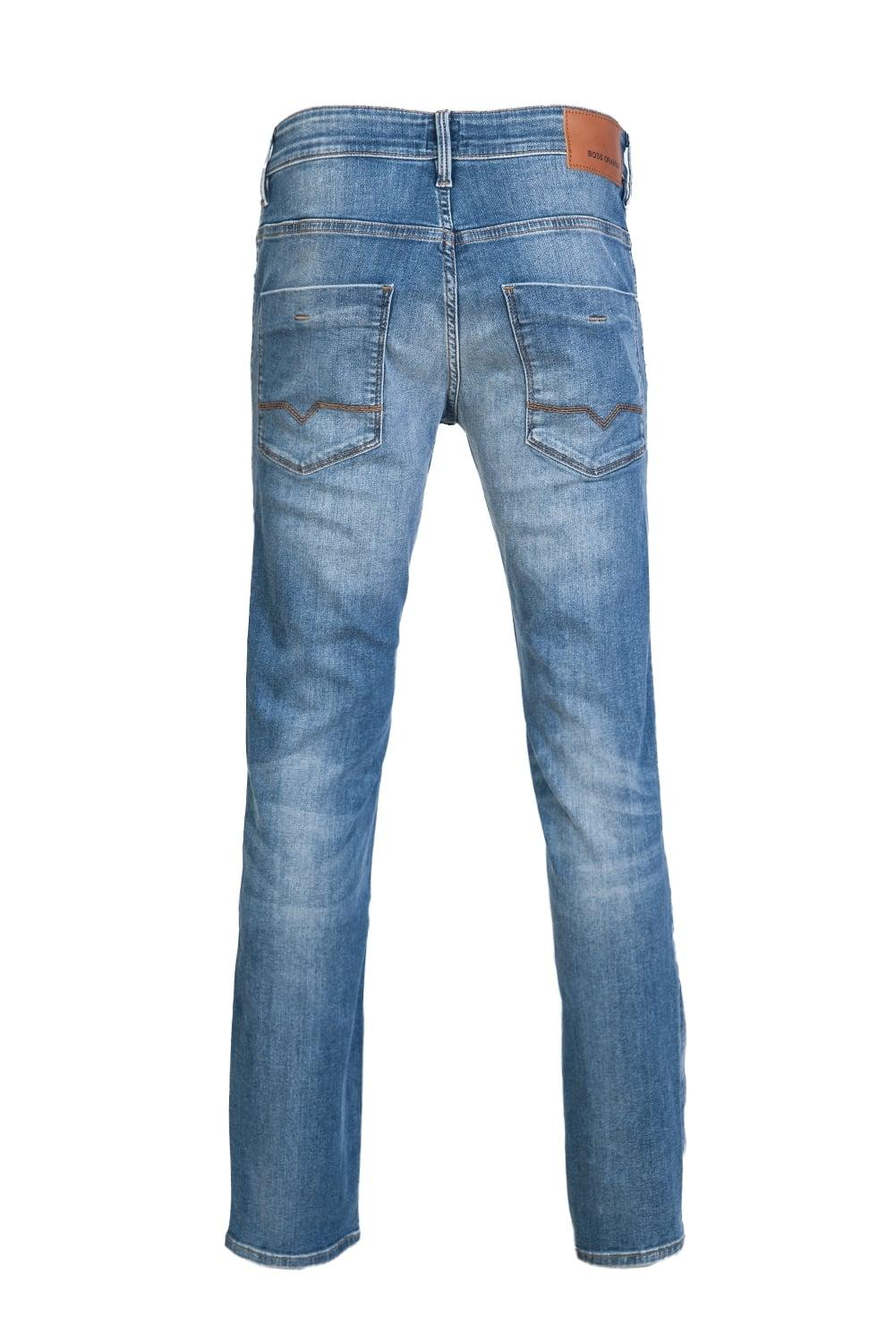Jeans: (213, 92, 698, 1286)
